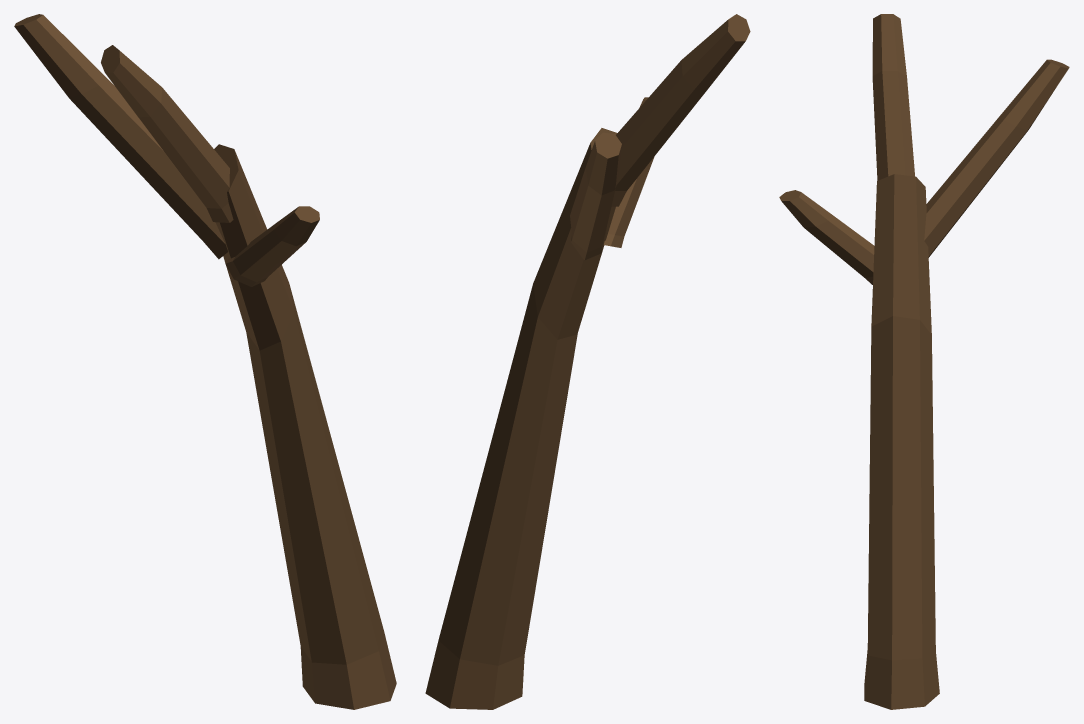
File: tree.fbx
The picture shows the model from 3 angles, left to right: view 1: azimuth 30°, elevation 25°; view 2: azimuth 150°, elevation 25°; view 3: azimuth 270°, elevation 25°; orthographic projection. The views are drawn at different scales.
Parts seen in each view (by area): view 1: 円.002, 円.004, 円.003, 円.001; view 2: 円.002, 円.003, 円.004, 円.001; view 3: 円.002, 円.004, 円.003, 円.001.
Boxes of the visible parts, x1,y1,x2,y2 form: 円.002: [214, 144, 396, 709]; 円.004: [14, 14, 227, 259]; 円.003: [101, 45, 233, 222]; 円.001: [225, 206, 319, 286]; 円.002: [425, 128, 617, 709]; 円.003: [611, 14, 750, 206]; 円.004: [570, 132, 621, 260]; 円.001: [604, 97, 654, 247]; 円.002: [864, 174, 939, 709]; 円.004: [924, 59, 1069, 257]; 円.003: [872, 14, 914, 180]; 円.001: [779, 190, 874, 284].
Size of the model in its own units: 705 by 1613 by 729.
